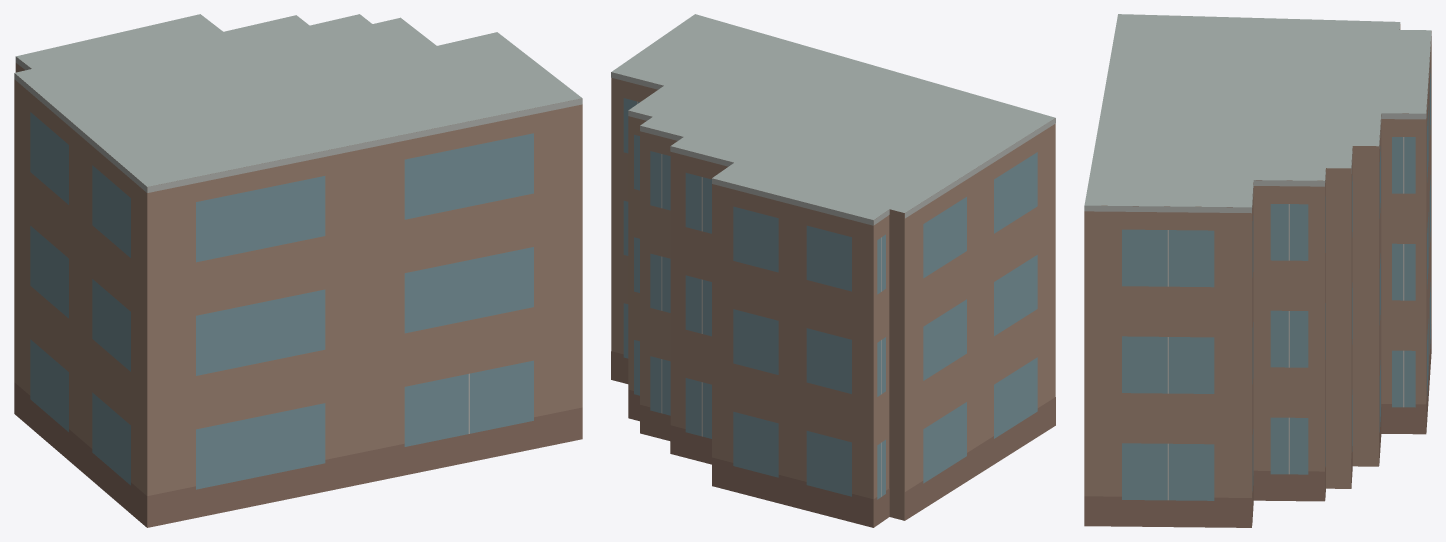
File: survey-upis-32866300.glb
3 renders of one model, left to right at view 1: azimuth 30°, elevation 25°; view 2: azimuth 150°, elevation 25°; view 3: azimuth 270°, elevation 25°, orthographic. The views are drawn at different scales.
Visible parts, largest first — view 1: survey-upis-32866300.tmp; view 2: survey-upis-32866300.tmp; view 3: survey-upis-32866300.tmp.
Part boxes in pixels (box(x1,y1,x2,y2)): survey-upis-32866300.tmp: box(14, 14, 582, 527); survey-upis-32866300.tmp: box(611, 14, 1055, 527); survey-upis-32866300.tmp: box(1084, 14, 1431, 527).
Bounding box in the file's own units: 17.34 × 13.4 × 13.16.
